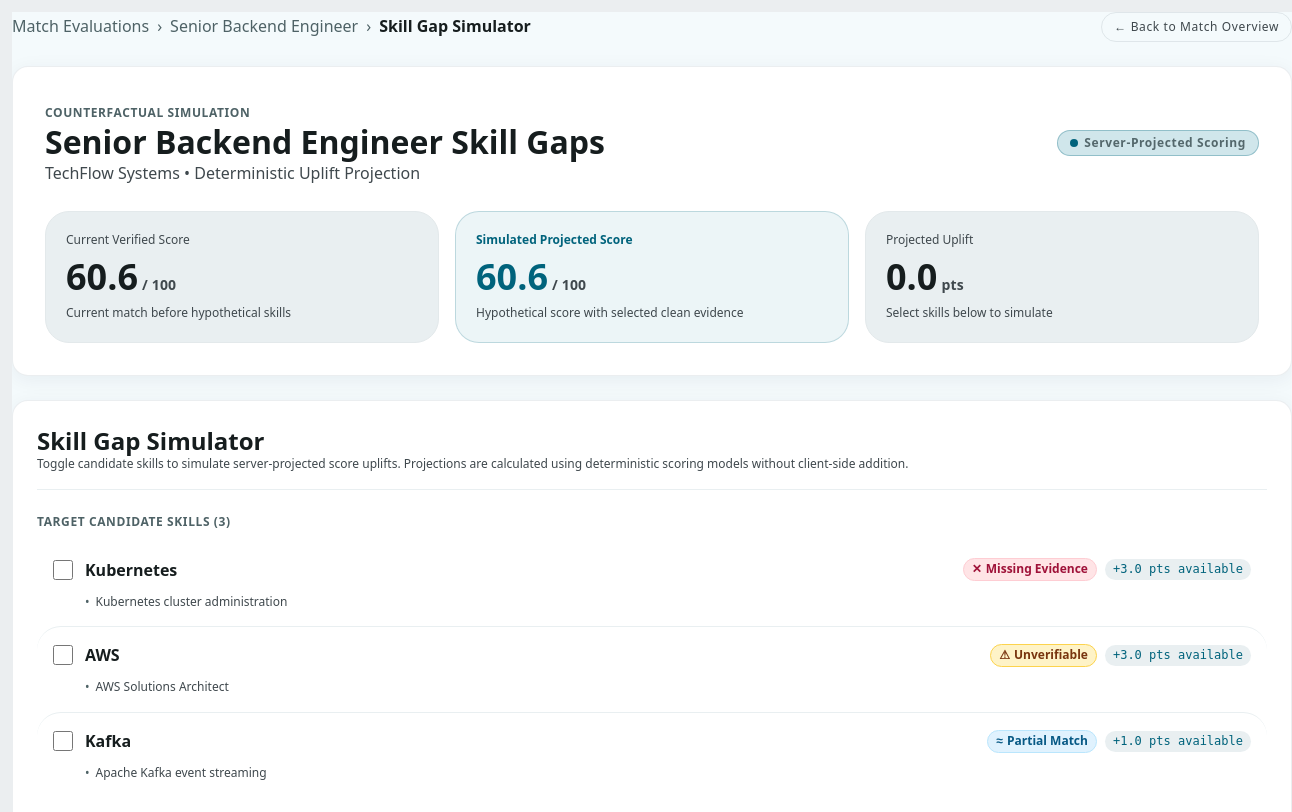
Test: Phase 3H Skill Gap UI Tests › MatchGapsPage counterfactual simulation › updates to exact server projection on single and combination skill toggles
Expected: the text with test id "base-match-score" is shown, [66,257,138,297]
Click the checkbox named "Toggle Kubernetes".
click(63, 570)  # box [53,560,73,580]
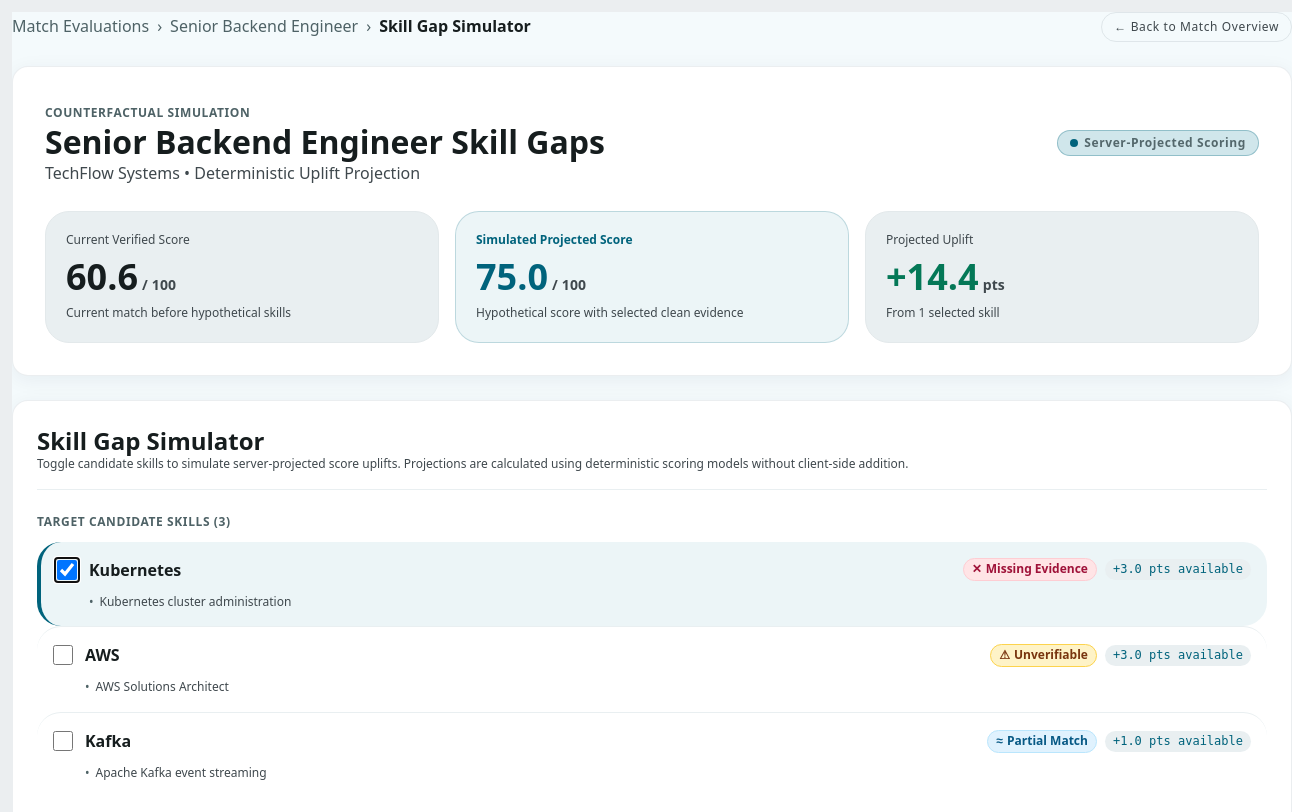
Result: the text with test id "projected-match-score" reads "75.0" at [476,252,548,301]
Result: the text with test id "projected-score-delta" reads "+14.4" at [886,252,979,301]
Click the checkbox named "Toggle AWS".
click(63, 655)  # box [53,645,73,665]
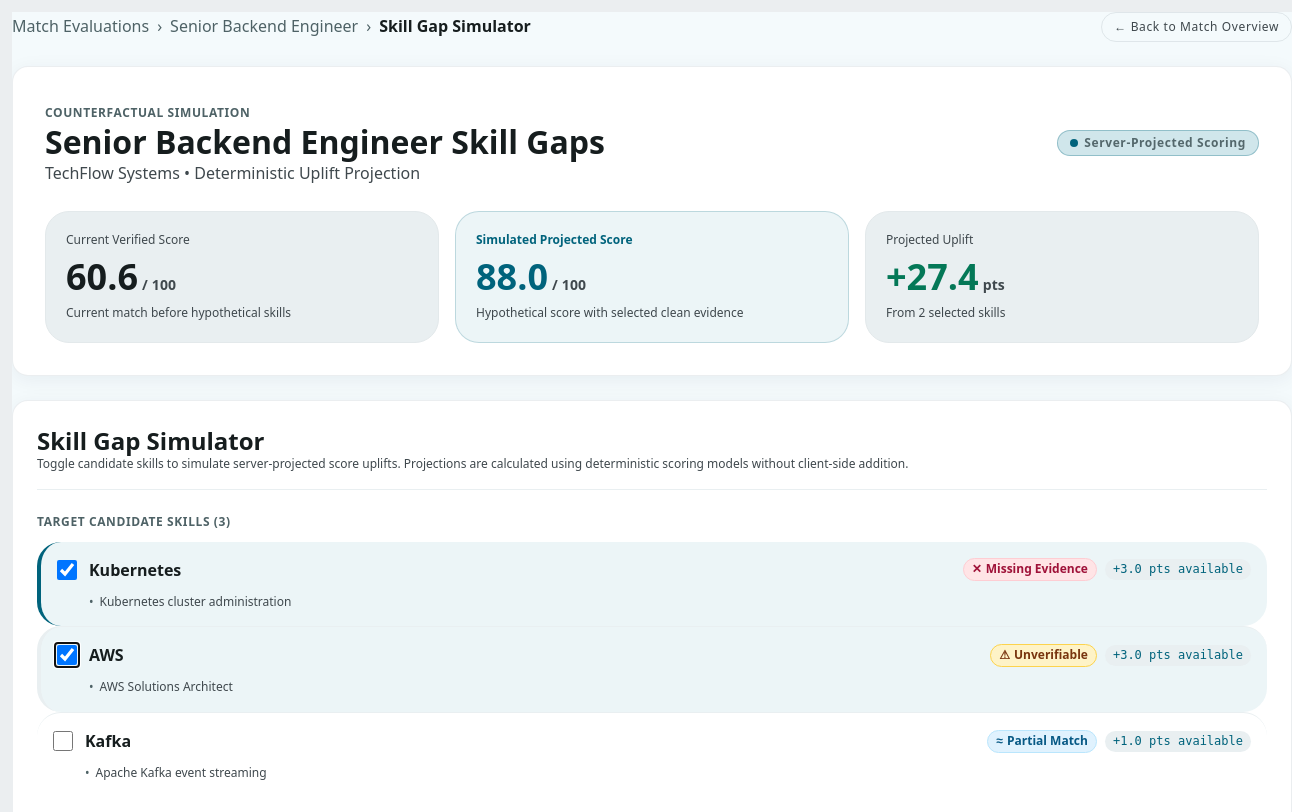
Result: the text with test id "projected-match-score" reads "88.0" at [476,252,548,301]
Result: the text with test id "projected-score-delta" reads "+27.4" at [886,252,979,301]
